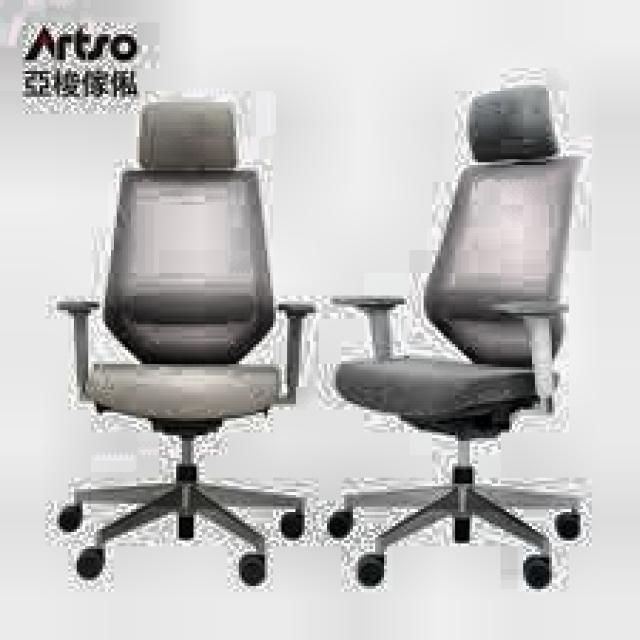cadeira: (327, 76, 595, 590), (52, 91, 314, 589)
